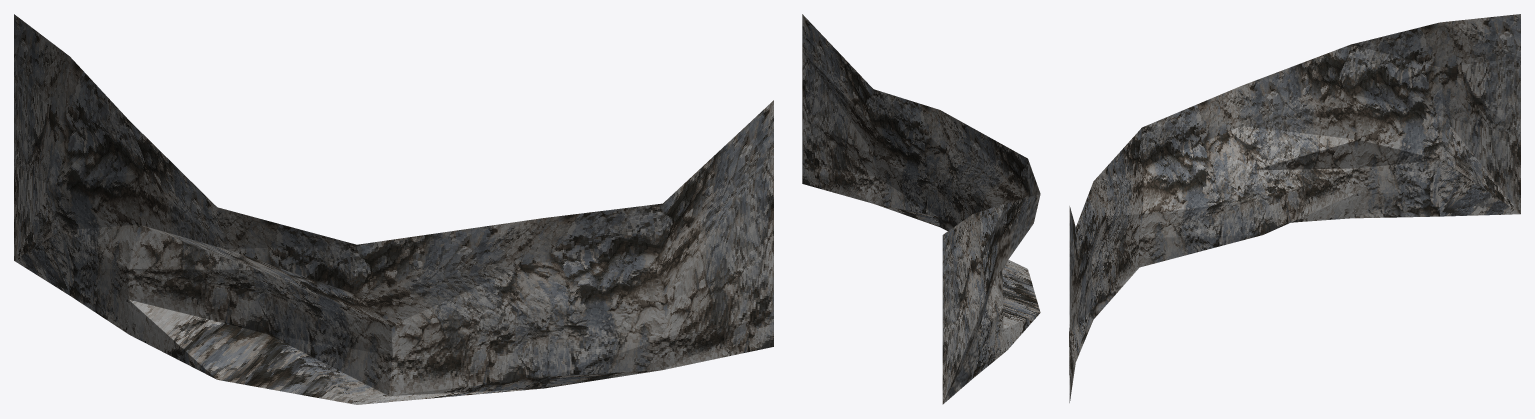
File: lowWallToplowWallTop_03_corner_01.glb
The picture shows the model from 3 angles, left to right: view 1: azimuth 30°, elevation 25°; view 2: azimuth 150°, elevation 25°; view 3: azimuth 270°, elevation 25°; orthographic projection. The views are drawn at different scales.
Parts seen in each view (by area): view 1: lowWallTop_03_corner_01; view 2: lowWallTop_03_corner_01; view 3: lowWallTop_03_corner_01.
Boxes of the visible parts, x1=… form: lowWallTop_03_corner_01: x1=14, y1=14, x2=773, y2=404; lowWallTop_03_corner_01: x1=802, y1=14, x2=1040, y2=404; lowWallTop_03_corner_01: x1=1069, y1=14, x2=1520, y2=402.
Bounding box in the file's own units: 16.41 × 7.83 × 16.02.
1 material, 1 textured.
